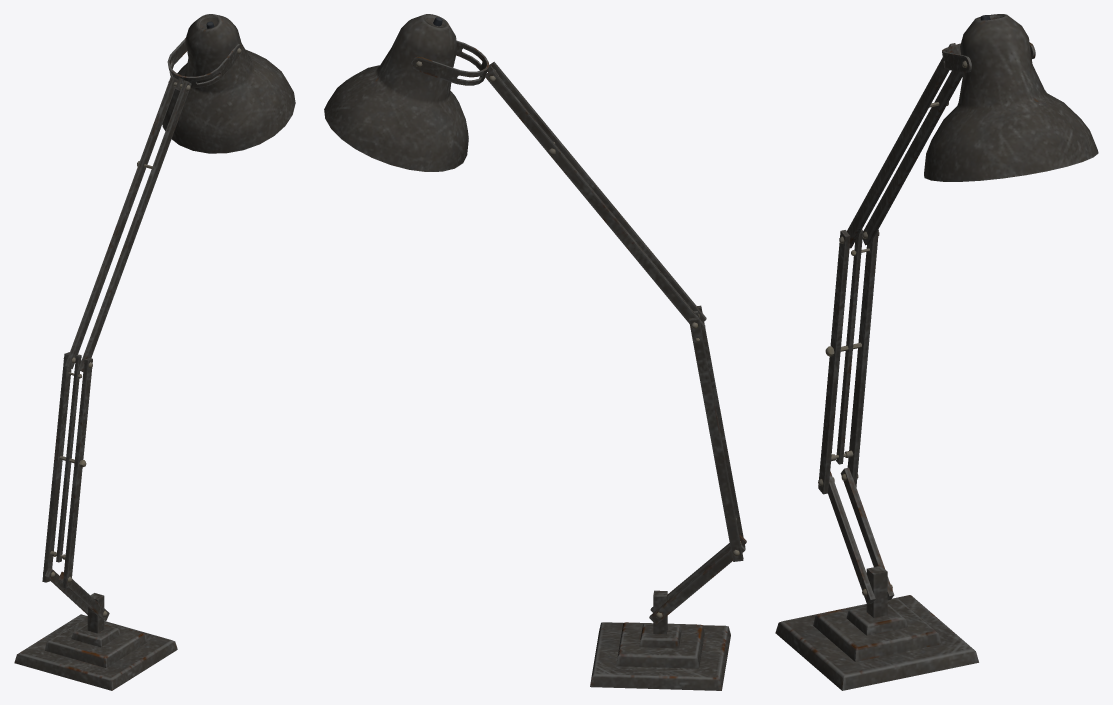
Rendered from lamp.glb.
3 views of the same model, side by side, from view 1: azimuth 30°, elevation 25°; view 2: azimuth 150°, elevation 25°; view 3: azimuth 270°, elevation 25° (orthographic). The views are drawn at different scales.
Visible parts, largest first — view 1: Lamp_Shade.001_52, Lamp01_57, Lamp02_54, Lamp02.002_55, Lamp_Holder.001_53, Lamp02.001_56; view 2: Lamp_Shade.001_52, Lamp01_57, Lamp02_54, Lamp02.002_55, Lamp02.001_56, Lamp_Holder.001_53; view 3: Lamp_Shade.001_52, Lamp01_57, Lamp02.002_55, Lamp02_54, Lamp02.001_56, Lamp_Holder.001_53.
Part boxes in pixels (<box>): Lamp_Shade.001_52: <box>162,14,295,153</box>; Lamp01_57: <box>14,593,177,690</box>; Lamp02_54: <box>65,76,191,371</box>; Lamp02.002_55: <box>42,352,92,588</box>; Lamp_Holder.001_53: <box>167,38,242,87</box>; Lamp02.001_56: <box>43,568,109,620</box>; Lamp_Shade.001_52: <box>324,14,468,171</box>; Lamp01_57: <box>590,590,730,690</box>; Lamp02_54: <box>484,61,706,329</box>; Lamp02.002_55: <box>689,305,745,561</box>; Lamp02.001_56: <box>649,534,746,624</box>; Lamp_Holder.001_53: <box>411,40,489,85</box>; Lamp_Shade.001_52: <box>924,14,1098,181</box>; Lamp01_57: <box>775,566,978,690</box>; Lamp02.002_55: <box>818,229,879,494</box>; Lamp02_54: <box>847,43,963,248</box>; Lamp02.001_56: <box>818,467,894,604</box>; Lamp_Holder.001_53: <box>942,42,1035,72</box>.
Size of the model in its own units: 0.4404 by 0.774 by 0.309.
1 material, 1 textured.
